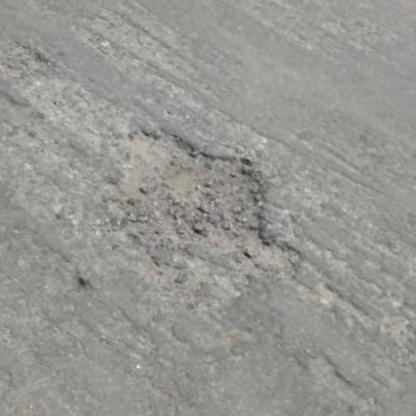pothole: (84, 106, 324, 288)
